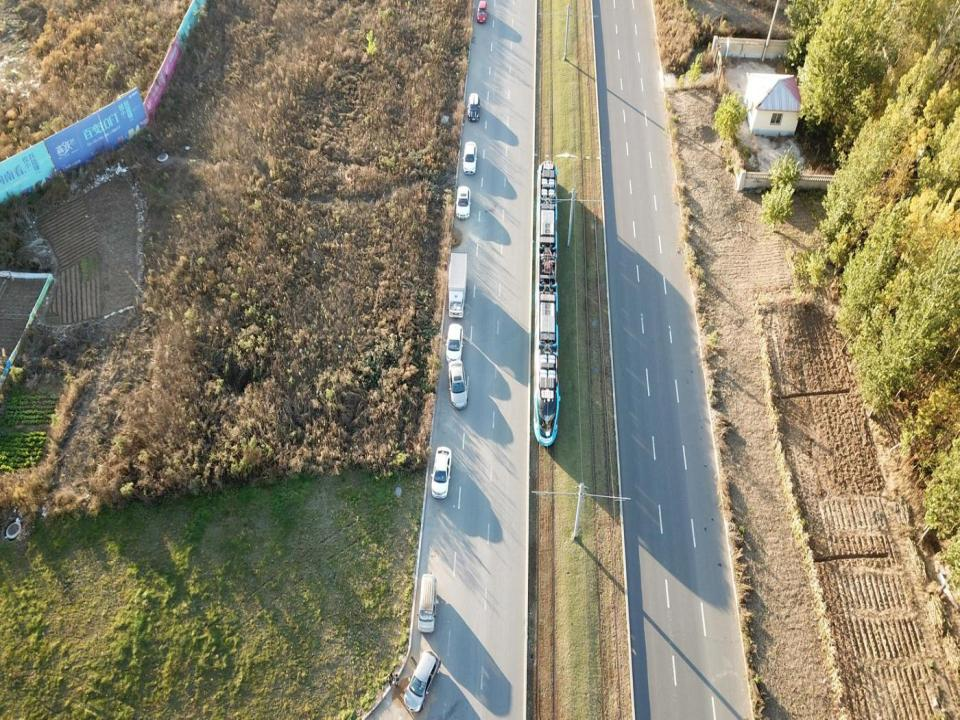car: (404, 650, 441, 712), (448, 361, 469, 409), (432, 446, 450, 497), (446, 324, 462, 368), (454, 186, 470, 221), (464, 142, 476, 174), (468, 92, 480, 122), (476, 0, 489, 25)
truck: (448, 252, 467, 319)
van: (416, 571, 438, 634)
